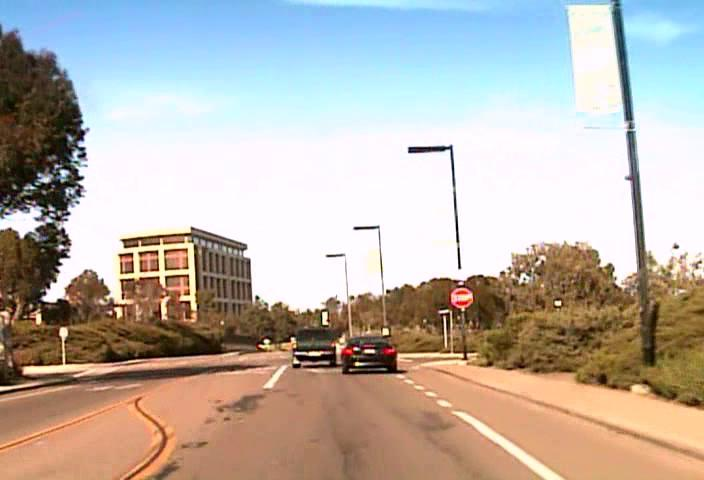stop: (450, 286, 473, 308)
